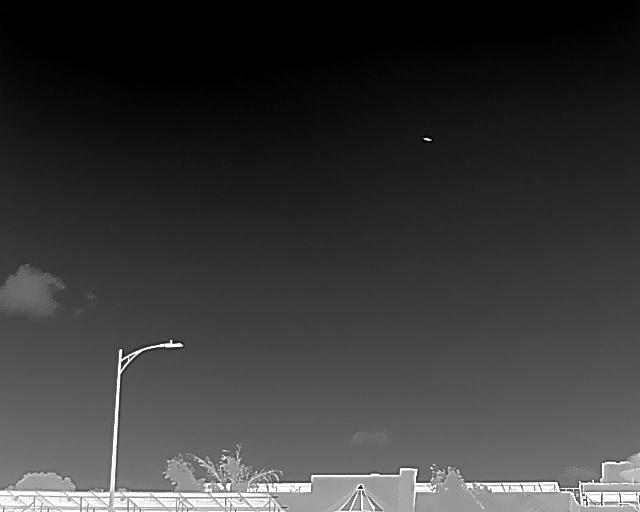fpv-drone: (422, 136, 432, 142)
